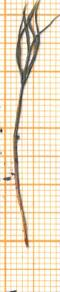flower: (3, 0, 59, 89)
root: (12, 178, 31, 247)
stem: (10, 84, 28, 177)
